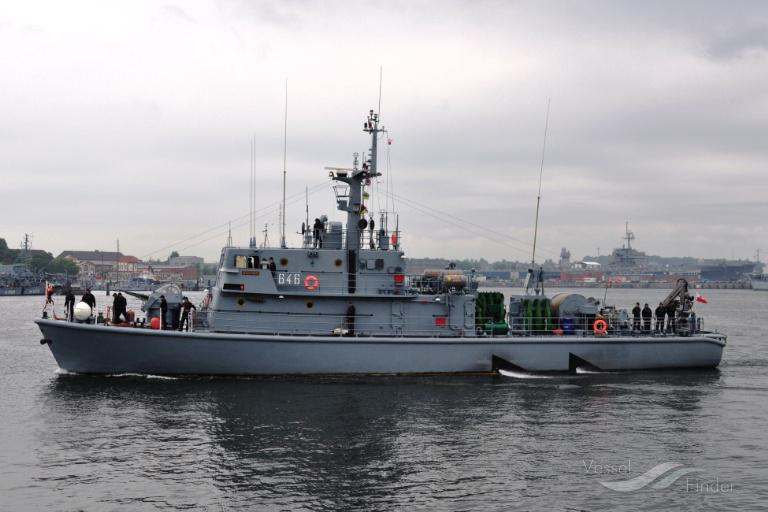OCR: (276, 266, 304, 290)
